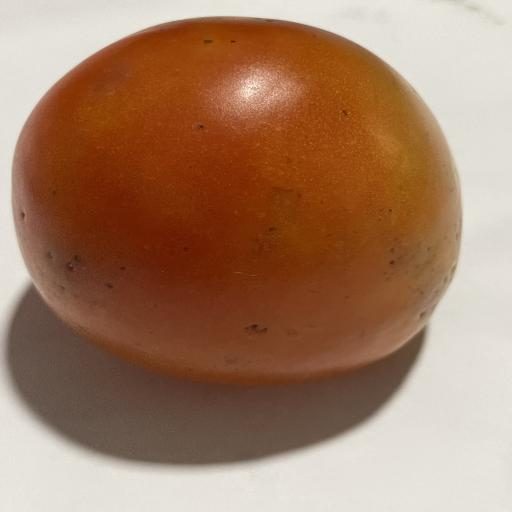ripe: (12, 17, 461, 384)
